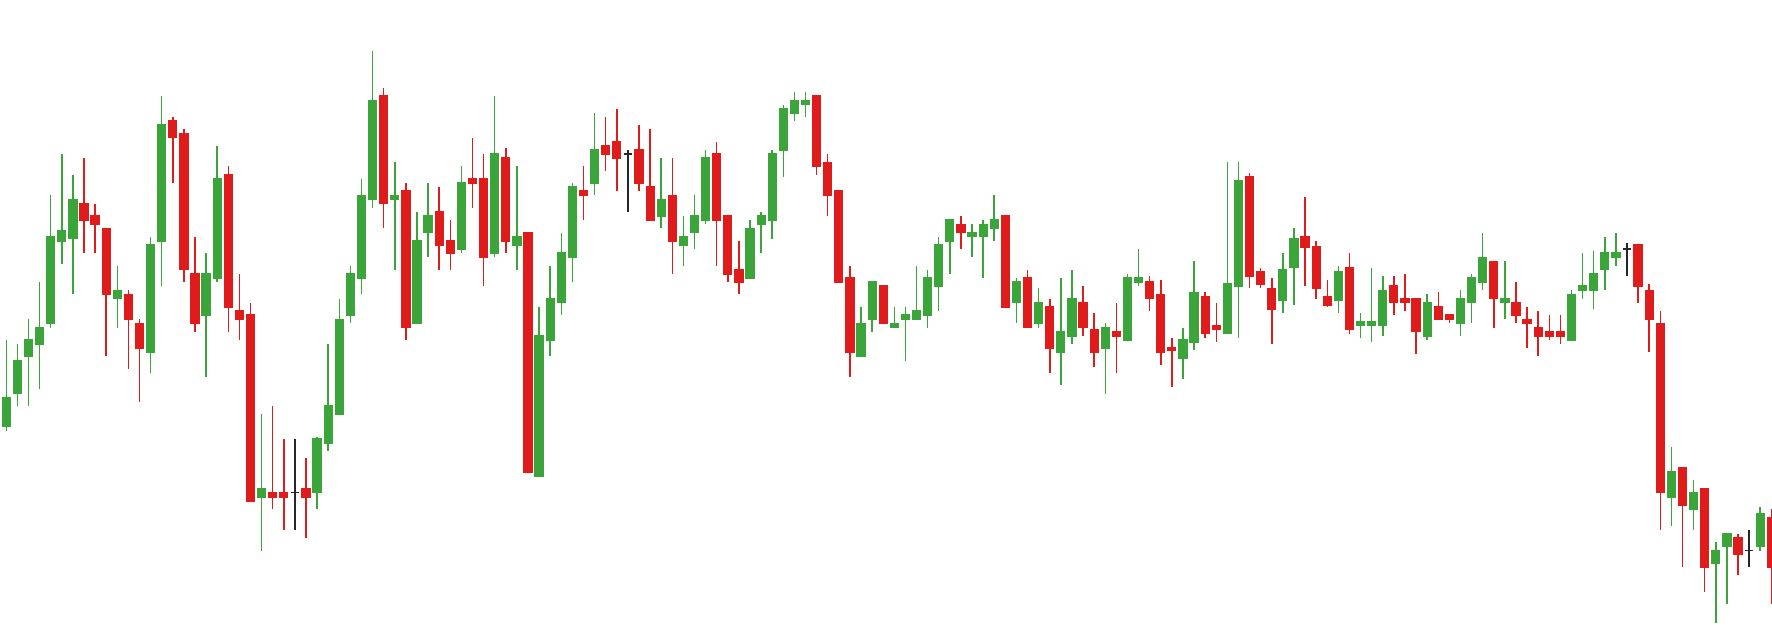buy: (1044, 312, 1110, 394)
sell: (210, 54, 392, 263), (60, 101, 192, 240), (697, 95, 820, 221), (1470, 230, 1642, 310)
